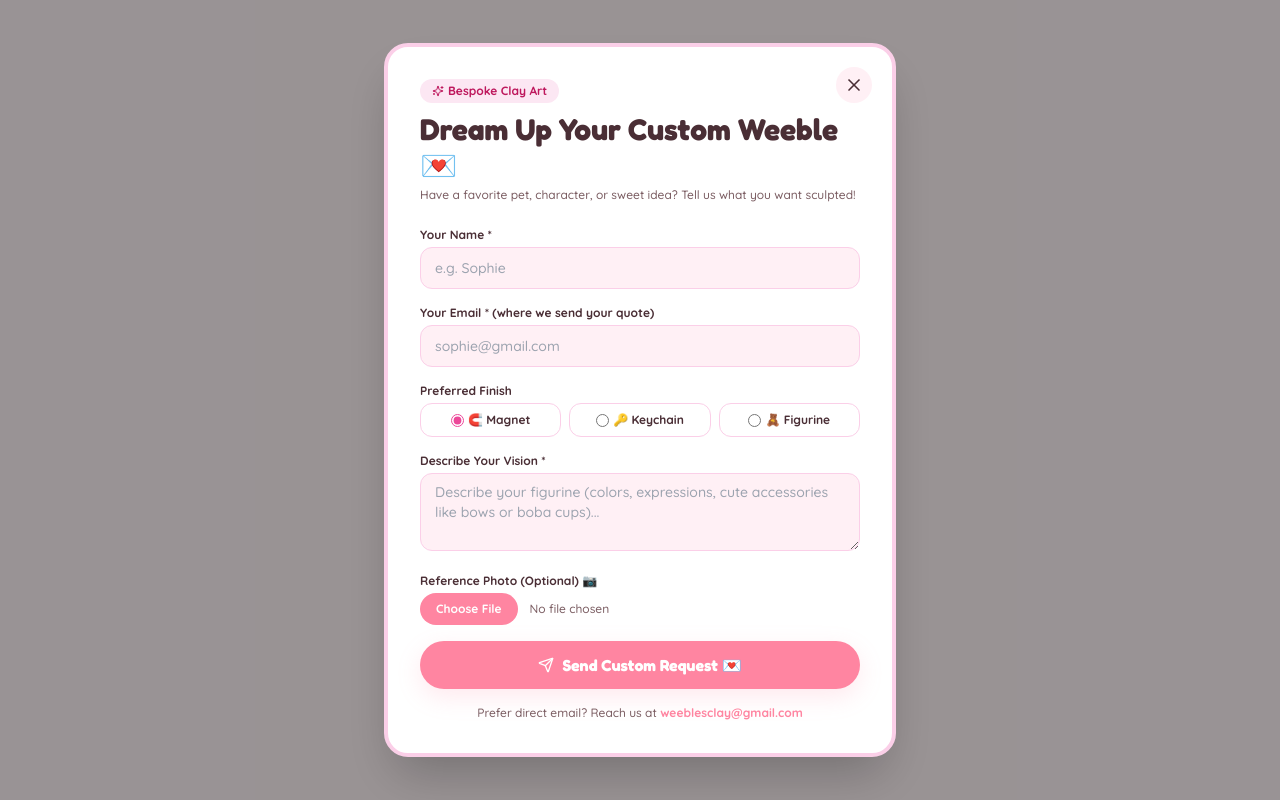
Test case: CustomOrderModal › renders finish radio options with magnet selected by default and allows selecting keychain
Expected: the radio button labelled "🧲 Magnet" is checked, [451,414,464,426]
Expected: the radio button labelled "🧸 Figurine" is not checked, [748,414,761,426]
Click the radio button labelled "🔑 Keychain". click: (603, 420)
box: [596,414,609,426]
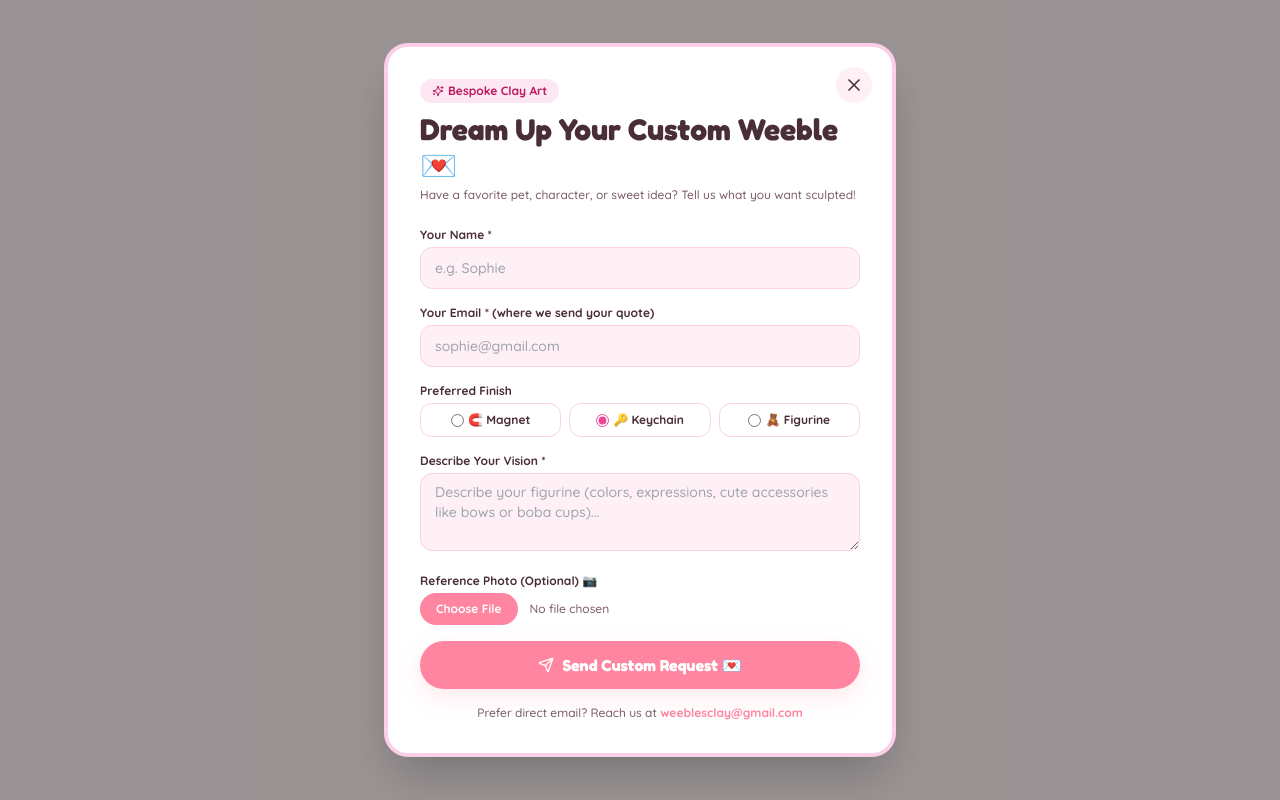
Result: the radio button labelled "🔑 Keychain" is checked at [596,414,609,426]
Result: the radio button labelled "🧲 Magnet" is not checked at [451,414,464,426]
